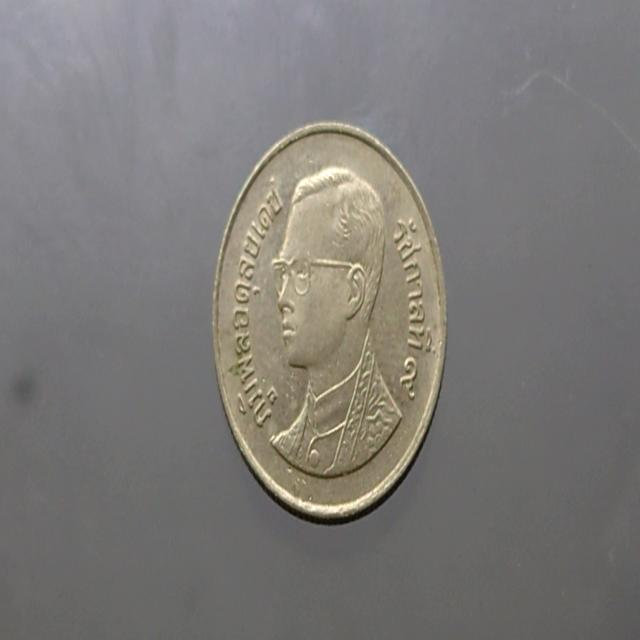1 Bath: (204, 108, 462, 540)
